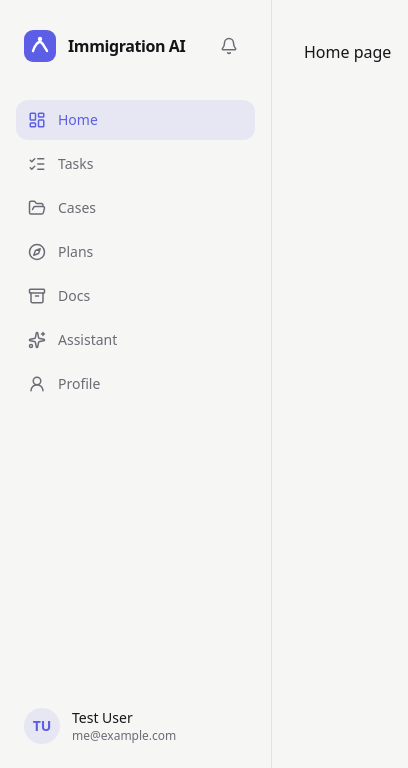
Test: AppShell navigation › shows the new page after clicking a tab, and never hides it with an inline opacity
The width and height of the screenshot is (408, 768).
Check: the heading "Home page" is shown, box top-left (304, 41), bottom-right (391, 63)
Click the link "Tasks".
click(61, 164)  # box top-left (28, 154), bottom-right (93, 173)
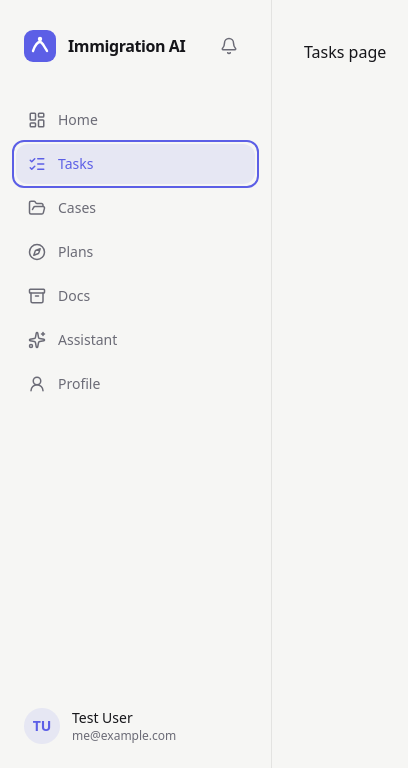
Check: the heading "Tasks page" is shown, box top-left (304, 41), bottom-right (386, 63)
Check: the heading "Home page" is gone
Click the link "Cases".
click(62, 208)  # box top-left (28, 198), bottom-right (96, 217)
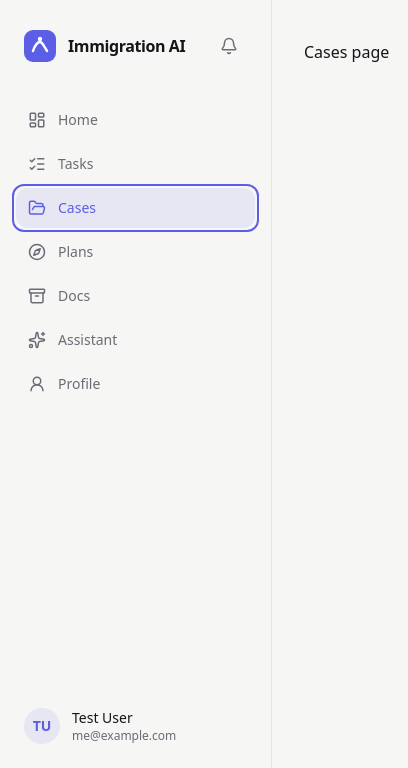
Check: the heading "Cases page" is shown, box top-left (304, 41), bottom-right (389, 63)
